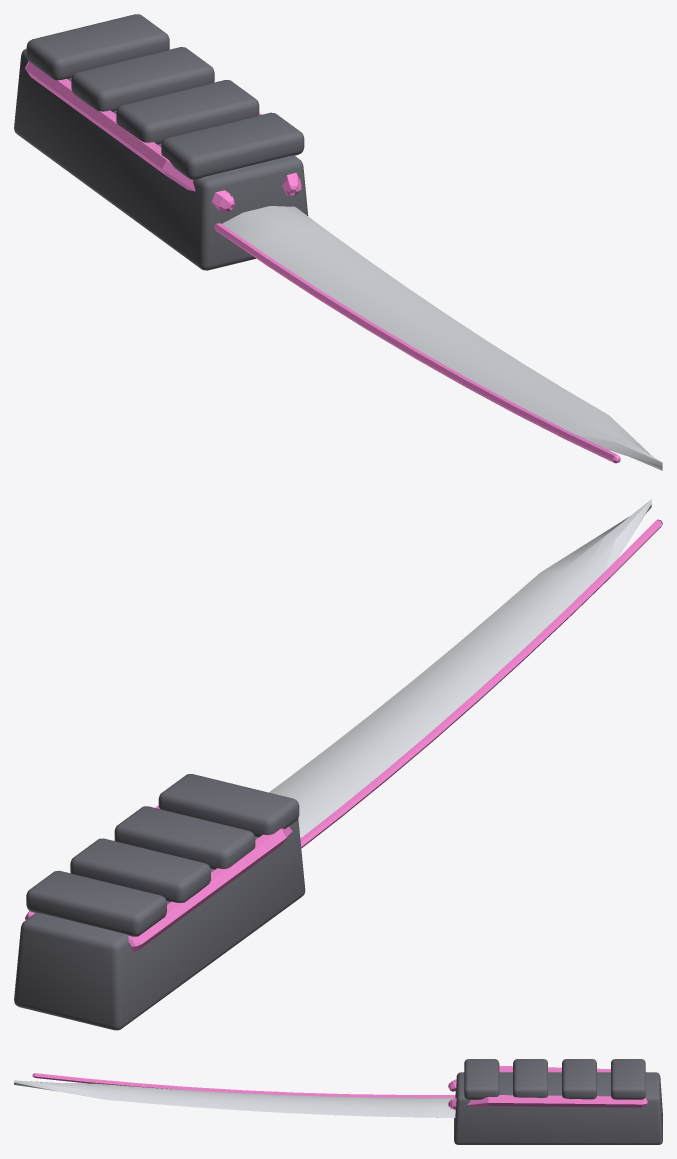
Rendered from ArsenalBiomecanico.fbx.
3 renders of one model, top to bottom at view 1: azimuth 30°, elevation 25°; view 2: azimuth 150°, elevation 25°; view 3: azimuth 270°, elevation 25°, orthographic. The views are drawn at different scales.
Visible parts, largest first — view 1: Funda del antebrazo, Hoja retractil, Filo de energia, Conductos; view 2: Funda del antebrazo, Hoja retractil, Filo de energia, Conductos; view 3: Funda del antebrazo, Hoja retractil, Conductos, Filo de energia.
Part boxes in pixels (box(x1,y1,x2,y2)): Funda del antebrazo: box(14, 14, 308, 270); Hoja retractil: box(222, 206, 662, 470); Filo de energia: box(214, 223, 620, 463); Conductos: box(25, 61, 301, 212); Funda del antebrazo: box(14, 774, 305, 1030); Hoja retractil: box(269, 499, 651, 838); Filo de energia: box(300, 519, 662, 848); Conductos: box(25, 805, 292, 951); Funda del antebrazo: box(454, 1059, 662, 1144); Hoja retractil: box(14, 1080, 455, 1117); Conductos: box(448, 1065, 647, 1109); Filo de energia: box(32, 1073, 455, 1097).
Size of the model in its own units: 0.116 by 0.0925 by 0.9296.
